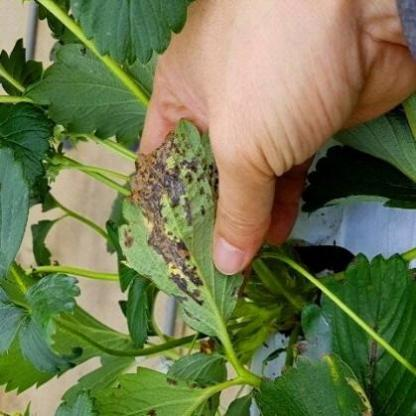Strawberry_Angular_LeafSpot: (117, 116, 246, 338), (88, 364, 222, 415)
